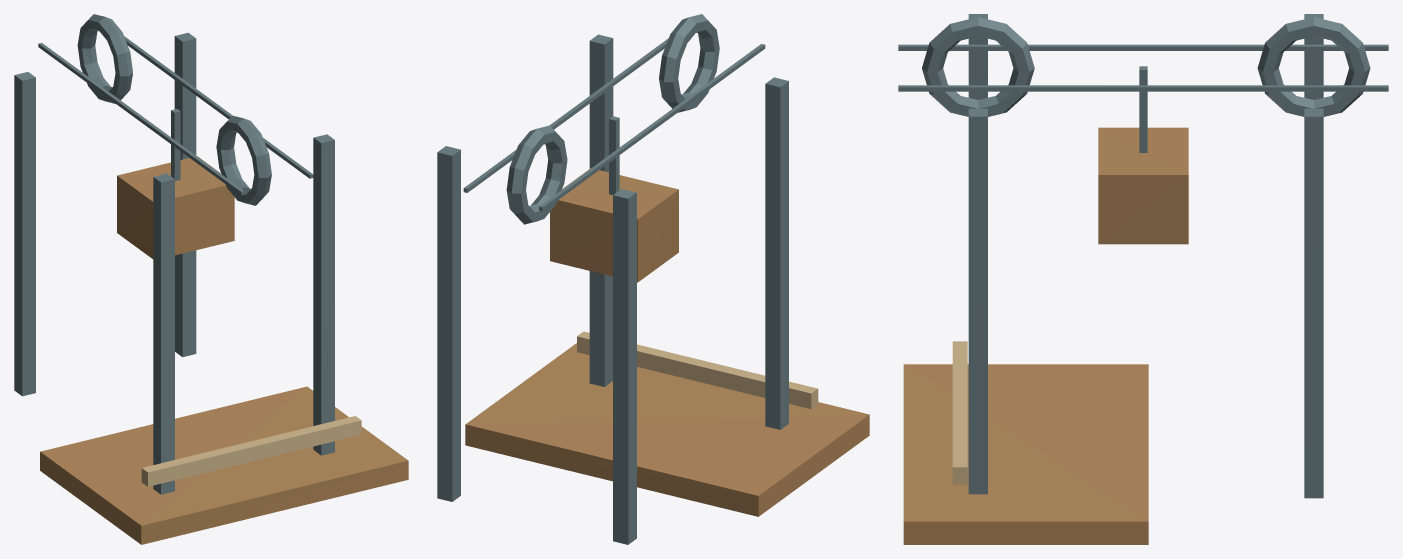
File: Cable-Lift.glb
The picture shows the model from 3 angles, left to right: view 1: azimuth 30°, elevation 25°; view 2: azimuth 150°, elevation 25°; view 3: azimuth 270°, elevation 25°; orthographic projection. The views are drawn at different scales.
Visible parts, largest first — view 1: cable-lift-static-lift-loading-timber, cable-lift-static-lift-dark-metal, cable-lift-static-lift-muted-teal, cable-lift-static-lift-galvanized, cable-lift-static-lift-warm-cream; view 2: cable-lift-static-lift-loading-timber, cable-lift-static-lift-dark-metal, cable-lift-static-lift-muted-teal, cable-lift-static-lift-galvanized, cable-lift-static-lift-warm-cream; view 3: cable-lift-static-lift-loading-timber, cable-lift-static-lift-dark-metal, cable-lift-static-lift-galvanized, cable-lift-static-lift-muted-teal, cable-lift-static-lift-warm-cream.
Part boxes in pixels (x1,y1,x2,y2): cable-lift-static-lift-loading-timber: (40,386,408,544); cable-lift-static-lift-dark-metal: (14,32,334,494); cable-lift-static-lift-muted-teal: (117,156,234,258); cable-lift-static-lift-galvanized: (77,14,271,205); cable-lift-static-lift-warm-cream: (141,416,361,486); cable-lift-static-lift-loading-timber: (465,343,869,516); cable-lift-static-lift-dark-metal: (437,34,788,544); cable-lift-static-lift-muted-teal: (550,168,678,282); cable-lift-static-lift-galvanized: (506,14,719,224); cable-lift-static-lift-warm-cream: (577,331,818,409); cable-lift-static-lift-loading-timber: (903,364,1148,544); cable-lift-static-lift-dark-metal: (898,14,1388,498); cable-lift-static-lift-galvanized: (922,17,1370,152); cable-lift-static-lift-muted-teal: (1098,127,1188,244); cable-lift-static-lift-warm-cream: (952,341,967,484).
Bounding box in the file's own units: 3.5 × 4.65 × 4.6.
